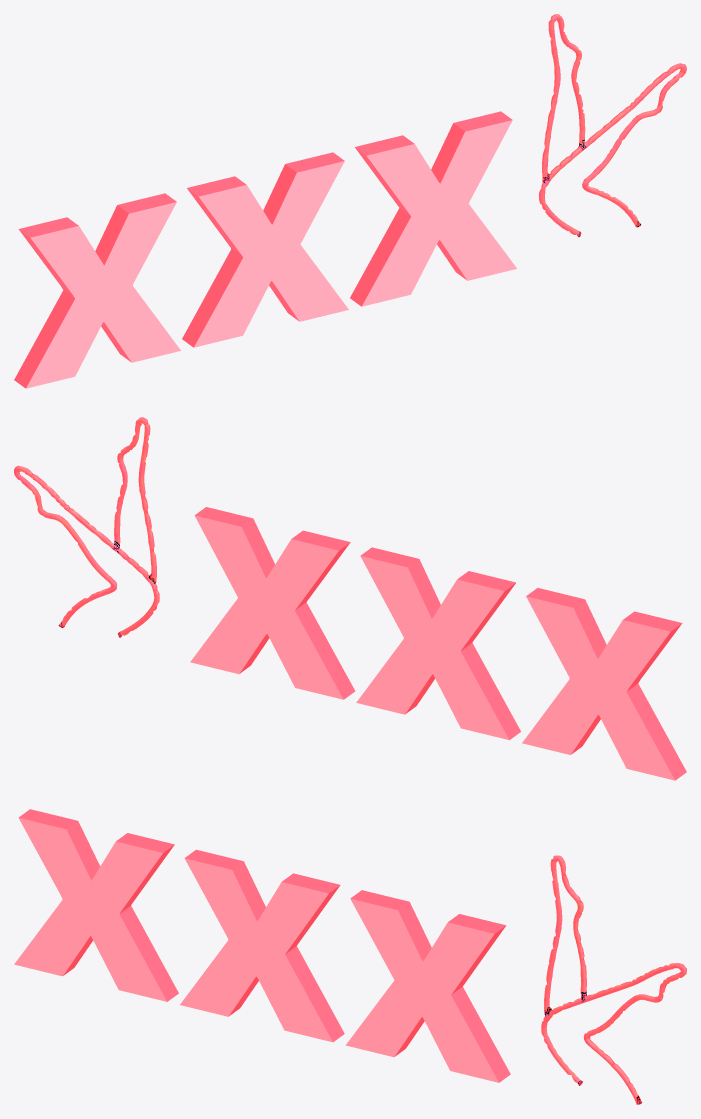
File: neon_club_xxx.glb
3 views of the same model, one above another, from view 1: azimuth 30°, elevation 25°; view 2: azimuth 150°, elevation 25°; view 3: azimuth 330°, elevation 25° (orthographic).
Parts seen in each view (by area): view 1: club_xxx; view 2: club_xxx; view 3: club_xxx.
Boxes of the visible parts, x1,y1,x2,y2 form: club_xxx: [14, 14, 686, 388]; club_xxx: [14, 417, 686, 780]; club_xxx: [14, 809, 686, 1104].
Bounding box in the file's own units: 3 × 1 × 0.0929.
Materials: 3 (1 with a texture image).
